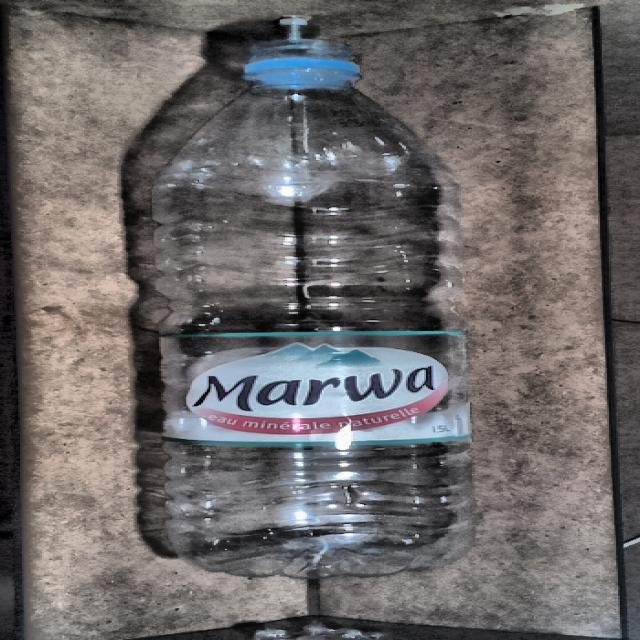plastic bottle: (154, 32, 474, 579)
